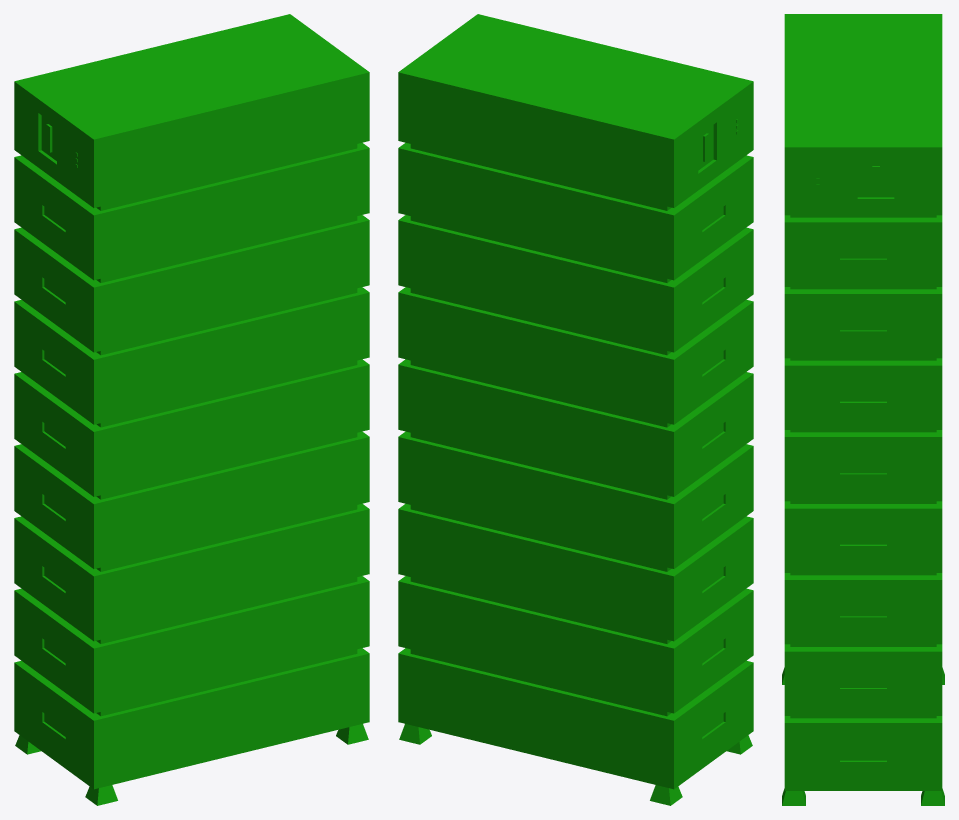
Rendered from NGEN_assets.obj.
3 views of the same model, side by side, from view 1: azimuth 30°, elevation 25°; view 2: azimuth 150°, elevation 25°; view 3: azimuth 270°, elevation 25° (orthographic).
Visible parts, largest first — view 1: Battery_Nine_Stack_-_Master, Battery_Nine_Stack_-_Slave_with_Legs, Battery_Nine_Stack_-_Slave_04, Battery_Nine_Stack_-_Slave_01, Battery_Nine_Stack_-_Slave_03, Battery_Nine_Stack_-_Slave_05, Battery_Nine_Stack_-_Slave_06, Battery_Nine_Stack_-_Slave_02, Battery_Nine_Stack_-_Slave_07; view 2: Battery_Nine_Stack_-_Master, Battery_Nine_Stack_-_Slave_with_Legs, Battery_Nine_Stack_-_Slave_04, Battery_Nine_Stack_-_Slave_01, Battery_Nine_Stack_-_Slave_03, Battery_Nine_Stack_-_Slave_05, Battery_Nine_Stack_-_Slave_06, Battery_Nine_Stack_-_Slave_02, Battery_Nine_Stack_-_Slave_07; view 3: Battery_Nine_Stack_-_Master, Battery_Nine_Stack_-_Slave_with_Legs, Battery_Nine_Stack_-_Slave_01, Battery_Nine_Stack_-_Slave_03, Battery_Nine_Stack_-_Slave_05, Battery_Nine_Stack_-_Slave_07, Battery_Nine_Stack_-_Slave_02, Battery_Nine_Stack_-_Slave_04, Battery_Nine_Stack_-_Slave_06.
Part boxes in pixels (<box>): Battery_Nine_Stack_-_Master: <box>14,14,369,207</box>; Battery_Nine_Stack_-_Slave_with_Legs: <box>14,648,369,805</box>; Battery_Nine_Stack_-_Slave_04: <box>14,359,369,496</box>; Battery_Nine_Stack_-_Slave_01: <box>14,576,369,713</box>; Battery_Nine_Stack_-_Slave_03: <box>14,431,369,568</box>; Battery_Nine_Stack_-_Slave_05: <box>14,287,369,424</box>; Battery_Nine_Stack_-_Slave_06: <box>14,215,369,352</box>; Battery_Nine_Stack_-_Slave_02: <box>14,503,369,641</box>; Battery_Nine_Stack_-_Slave_07: <box>14,142,369,280</box>; Battery_Nine_Stack_-_Master: <box>398,14,753,207</box>; Battery_Nine_Stack_-_Slave_with_Legs: <box>398,648,753,805</box>; Battery_Nine_Stack_-_Slave_04: <box>398,359,753,496</box>; Battery_Nine_Stack_-_Slave_01: <box>398,576,753,713</box>; Battery_Nine_Stack_-_Slave_03: <box>398,431,753,568</box>; Battery_Nine_Stack_-_Slave_05: <box>398,287,753,424</box>; Battery_Nine_Stack_-_Slave_06: <box>398,215,753,352</box>; Battery_Nine_Stack_-_Slave_02: <box>398,503,753,641</box>; Battery_Nine_Stack_-_Slave_07: <box>398,142,753,280</box>; Battery_Nine_Stack_-_Master: <box>784,14,942,215</box>; Battery_Nine_Stack_-_Slave_with_Legs: <box>782,667,944,805</box>; Battery_Nine_Stack_-_Slave_01: <box>784,644,942,715</box>; Battery_Nine_Stack_-_Slave_03: <box>784,501,942,572</box>; Battery_Nine_Stack_-_Slave_05: <box>784,358,942,429</box>; Battery_Nine_Stack_-_Slave_07: <box>784,215,942,286</box>; Battery_Nine_Stack_-_Slave_02: <box>784,573,942,644</box>; Battery_Nine_Stack_-_Slave_04: <box>784,430,942,501</box>; Battery_Nine_Stack_-_Slave_06: <box>784,287,942,358</box>.
Bounding box in the file's own units: 0.5022 × 1.15 × 0.258.
